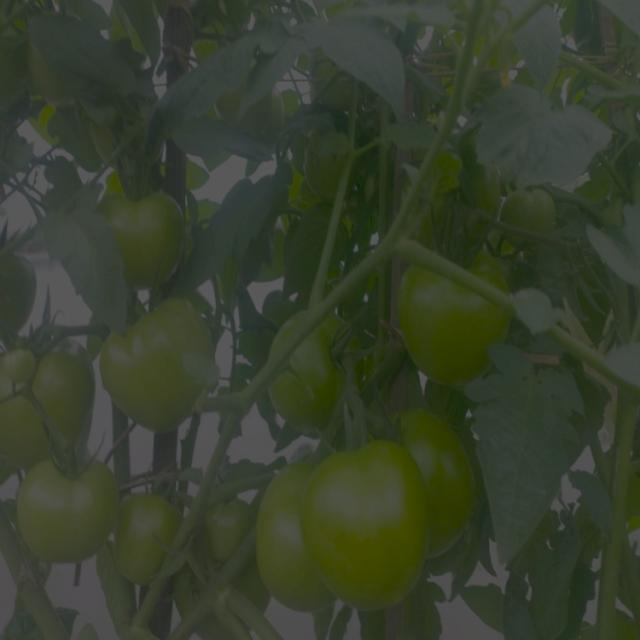tomato: (313, 437, 430, 603), (95, 299, 210, 439), (392, 408, 490, 564), (402, 265, 505, 389), (25, 456, 124, 570), (8, 335, 92, 465), (267, 449, 326, 619), (114, 188, 196, 284), (290, 333, 370, 411), (114, 483, 177, 578), (206, 492, 273, 561), (1, 242, 39, 336), (503, 179, 556, 235)
